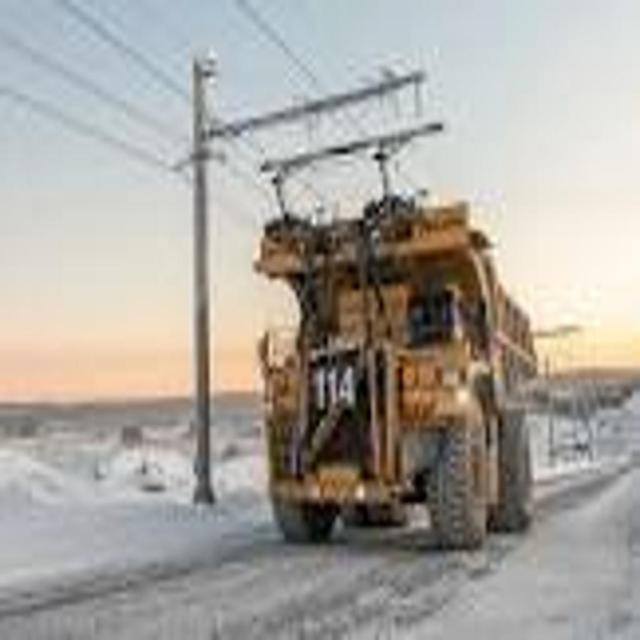dump_truck: (258, 188, 544, 556)
